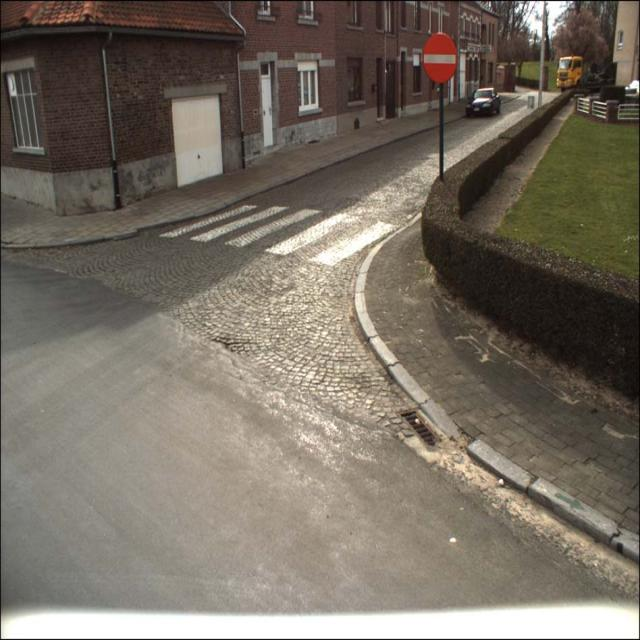girisyok: (423, 33, 457, 83)
